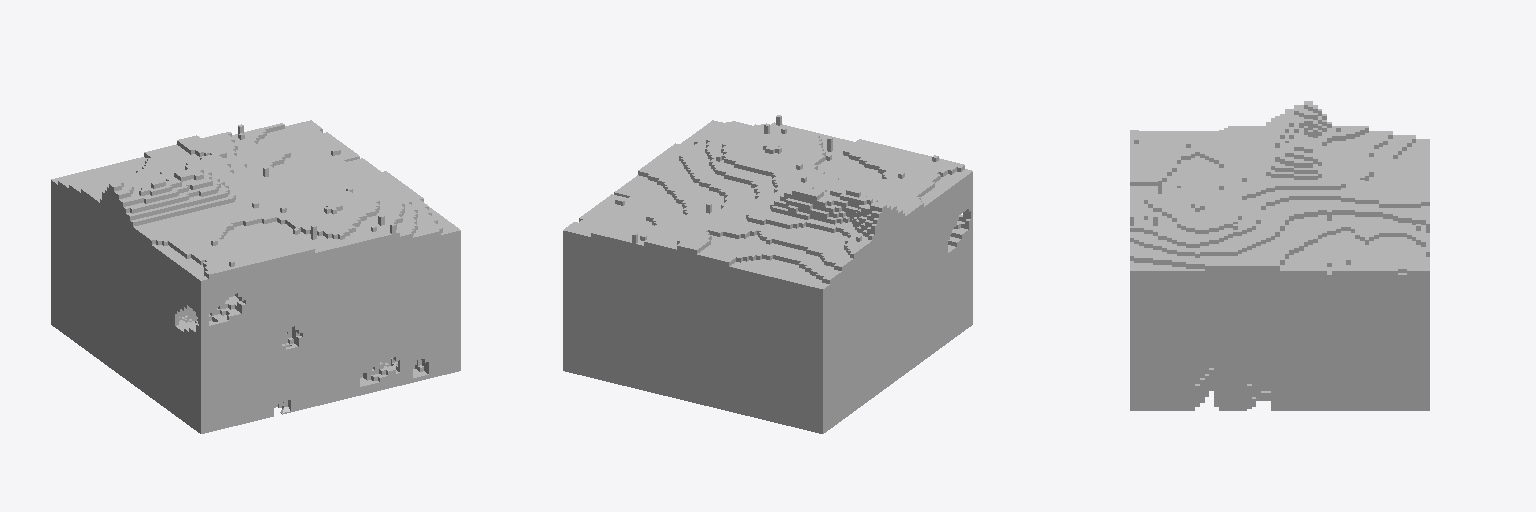
File: large-desert-only.obj
3 renders of one model, left to right at view 1: azimuth 30°, elevation 25°; view 2: azimuth 150°, elevation 25°; view 3: azimuth 270°, elevation 25°, orthographic.
Visible parts, largest first — view 1: Honors_World__92_144_-369_to_155_214_-306; view 2: Honors_World__92_144_-369_to_155_214_-306; view 3: Honors_World__92_144_-369_to_155_214_-306.
Boxes of the visible parts, <box> form: Honors_World__92_144_-369_to_155_214_-306: <box>51,120,460,433</box>; Honors_World__92_144_-369_to_155_214_-306: <box>563,115,972,433</box>; Honors_World__92_144_-369_to_155_214_-306: <box>1130,101,1429,410</box>.
Bounding box in the file's own units: 64 × 43 × 64.